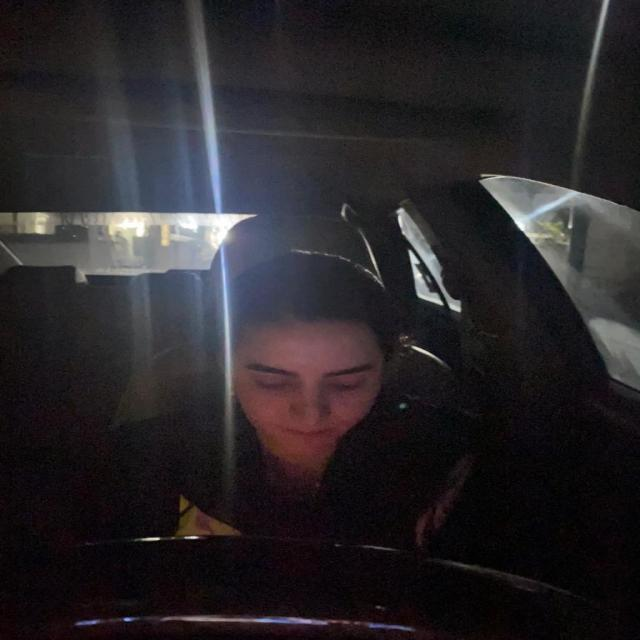drowsy: (207, 244, 405, 454)
